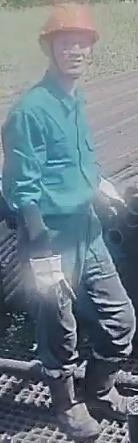gloves: (26, 248, 79, 321), (98, 173, 131, 226)
helmet: (32, 0, 102, 42)
vest: (0, 89, 99, 231)
